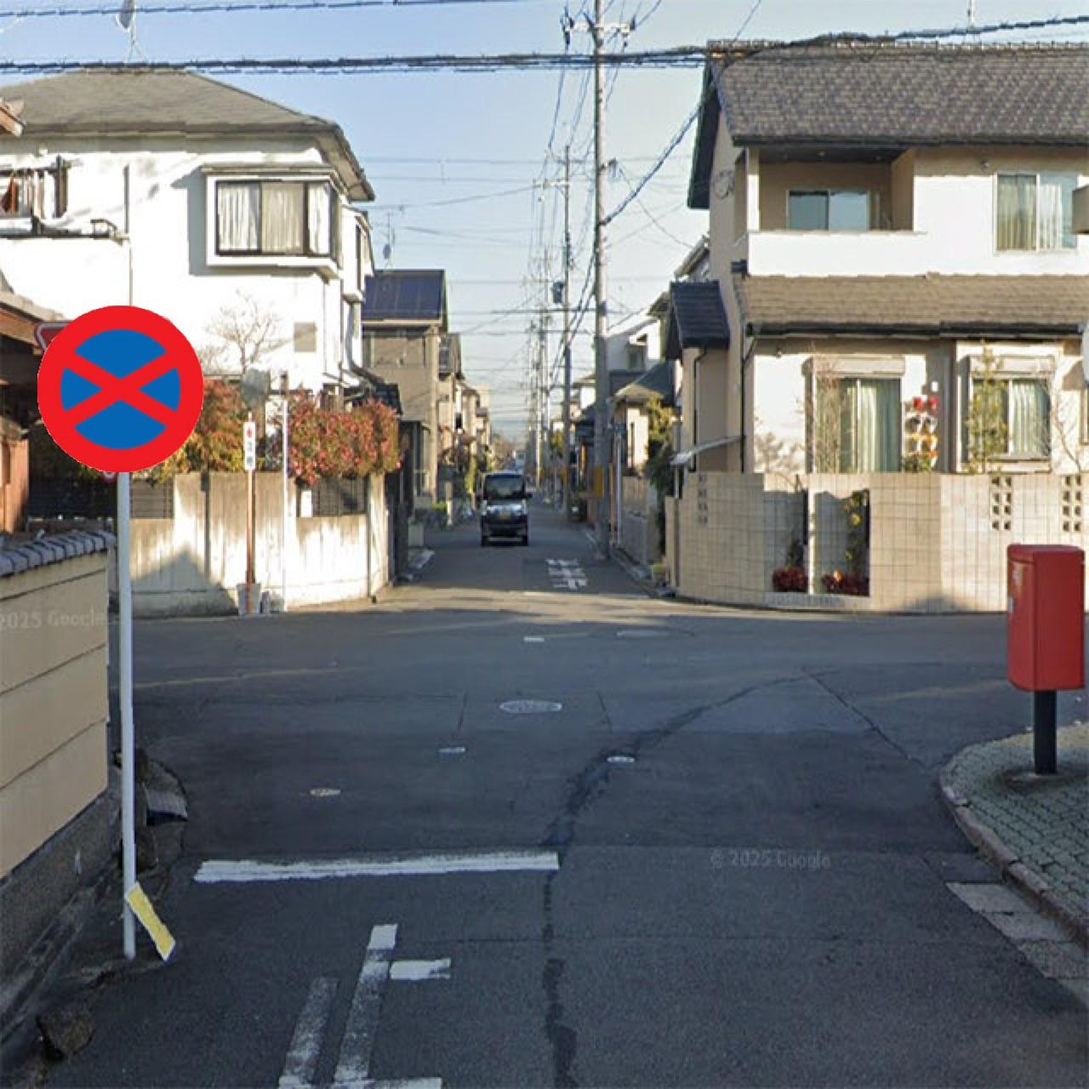stop_sign: (30, 303, 202, 478)
